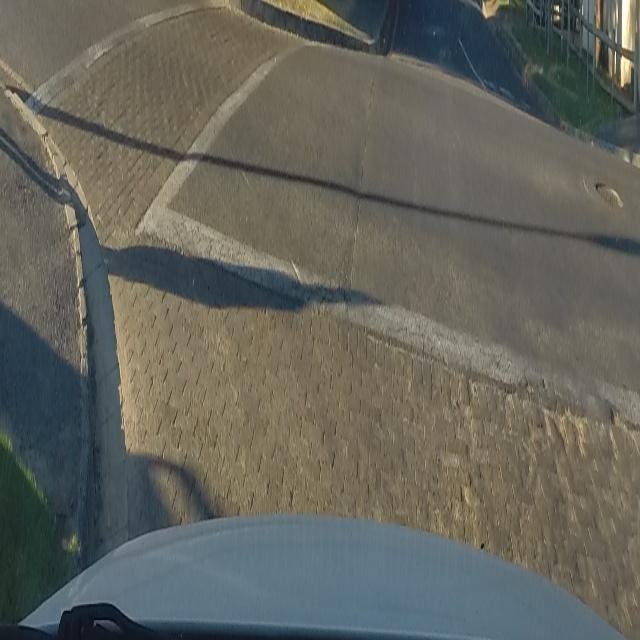pothole: (592, 176, 624, 210)
